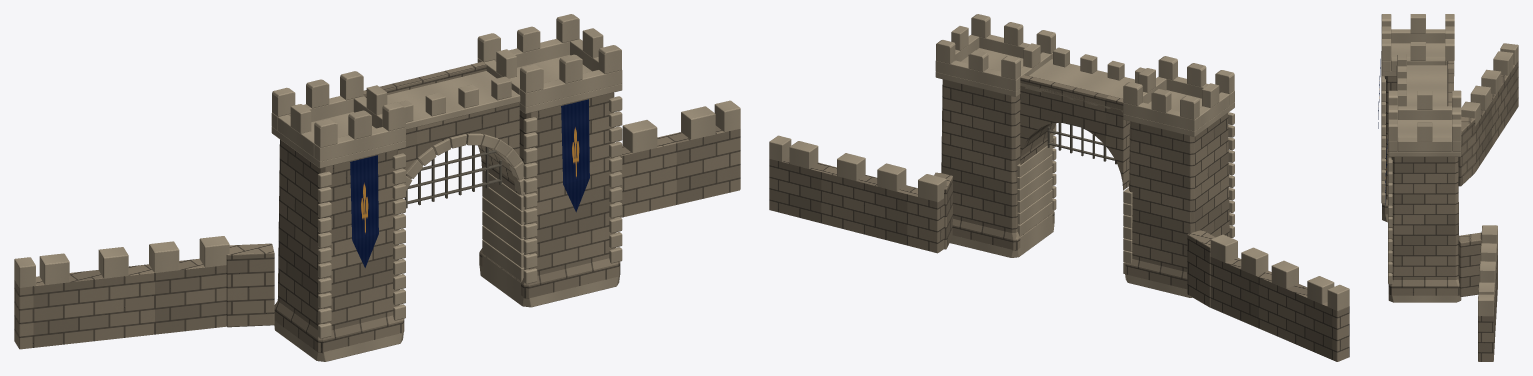
File: LowerGateFamilyV1.glb
The picture shows the model from 3 angles, left to right: view 1: azimuth 30°, elevation 25°; view 2: azimuth 150°, elevation 25°; view 3: azimuth 270°, elevation 25°; orthographic projection. The views are drawn at different scales.
Visible parts, largest first — view 1: LowerGate_WestTower, LowerGate_EastTower, LowerGate_WestWing, LowerGate_Arch, LowerGate_EastWing, LowerGate_Base; view 2: LowerGate_WestTower, LowerGate_EastTower, LowerGate_Arch, LowerGate_EastWing, LowerGate_WestWing, LowerGate_Base; view 3: LowerGate_EastTower, LowerGate_WestWing, LowerGate_WestTower, LowerGate_EastWing, LowerGate_Arch, LowerGate_Base.
Part boxes in pixels (x1=…): LowerGate_WestTower: x1=271, y1=71, x2=405, y2=353; LowerGate_EastTower: x1=477, y1=14, x2=622, y2=298; LowerGate_WestWing: x1=14, y1=236, x2=274, y2=349; LowerGate_Arch: x1=363, y1=61, x2=524, y2=295; LowerGate_EastWing: x1=615, y1=100, x2=740, y2=217; LowerGate_Base: x1=274, y1=265, x2=619, y2=361; LowerGate_WestTower: x1=1123, y1=56, x2=1234, y2=289; LowerGate_EastTower: x1=935, y1=14, x2=1056, y2=250; LowerGate_Arch: x1=1017, y1=47, x2=1145, y2=274; LowerGate_EastWing: x1=769, y1=135, x2=952, y2=253; LowerGate_WestWing: x1=1187, y1=229, x2=1349, y2=361; LowerGate_Base: x1=950, y1=223, x2=1192, y2=297; LowerGate_EastTower: x1=1385, y1=90, x2=1461, y2=295; LowerGate_WestWing: x1=1458, y1=43, x2=1518, y2=186; LowerGate_WestTower: x1=1378, y1=14, x2=1454, y2=214; LowerGate_EastWing: x1=1458, y1=225, x2=1497, y2=361; LowerGate_Arch: x1=1396, y1=54, x2=1453, y2=106; LowerGate_Base: x1=1382, y1=214, x2=1461, y2=302.
Size of the model in its own units: 26.89 by 8.64 by 6.19.
Materials: 4 (3 with a texture image).
